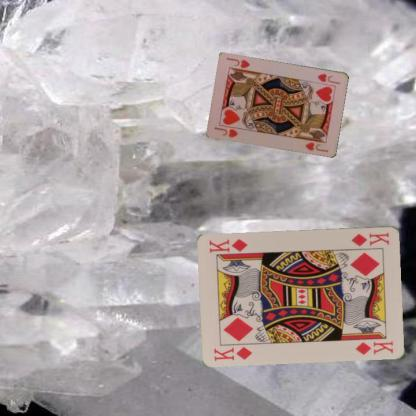Jh: (315, 70, 341, 86), (212, 124, 239, 139)
Kd: (349, 230, 391, 248), (212, 344, 253, 362)
